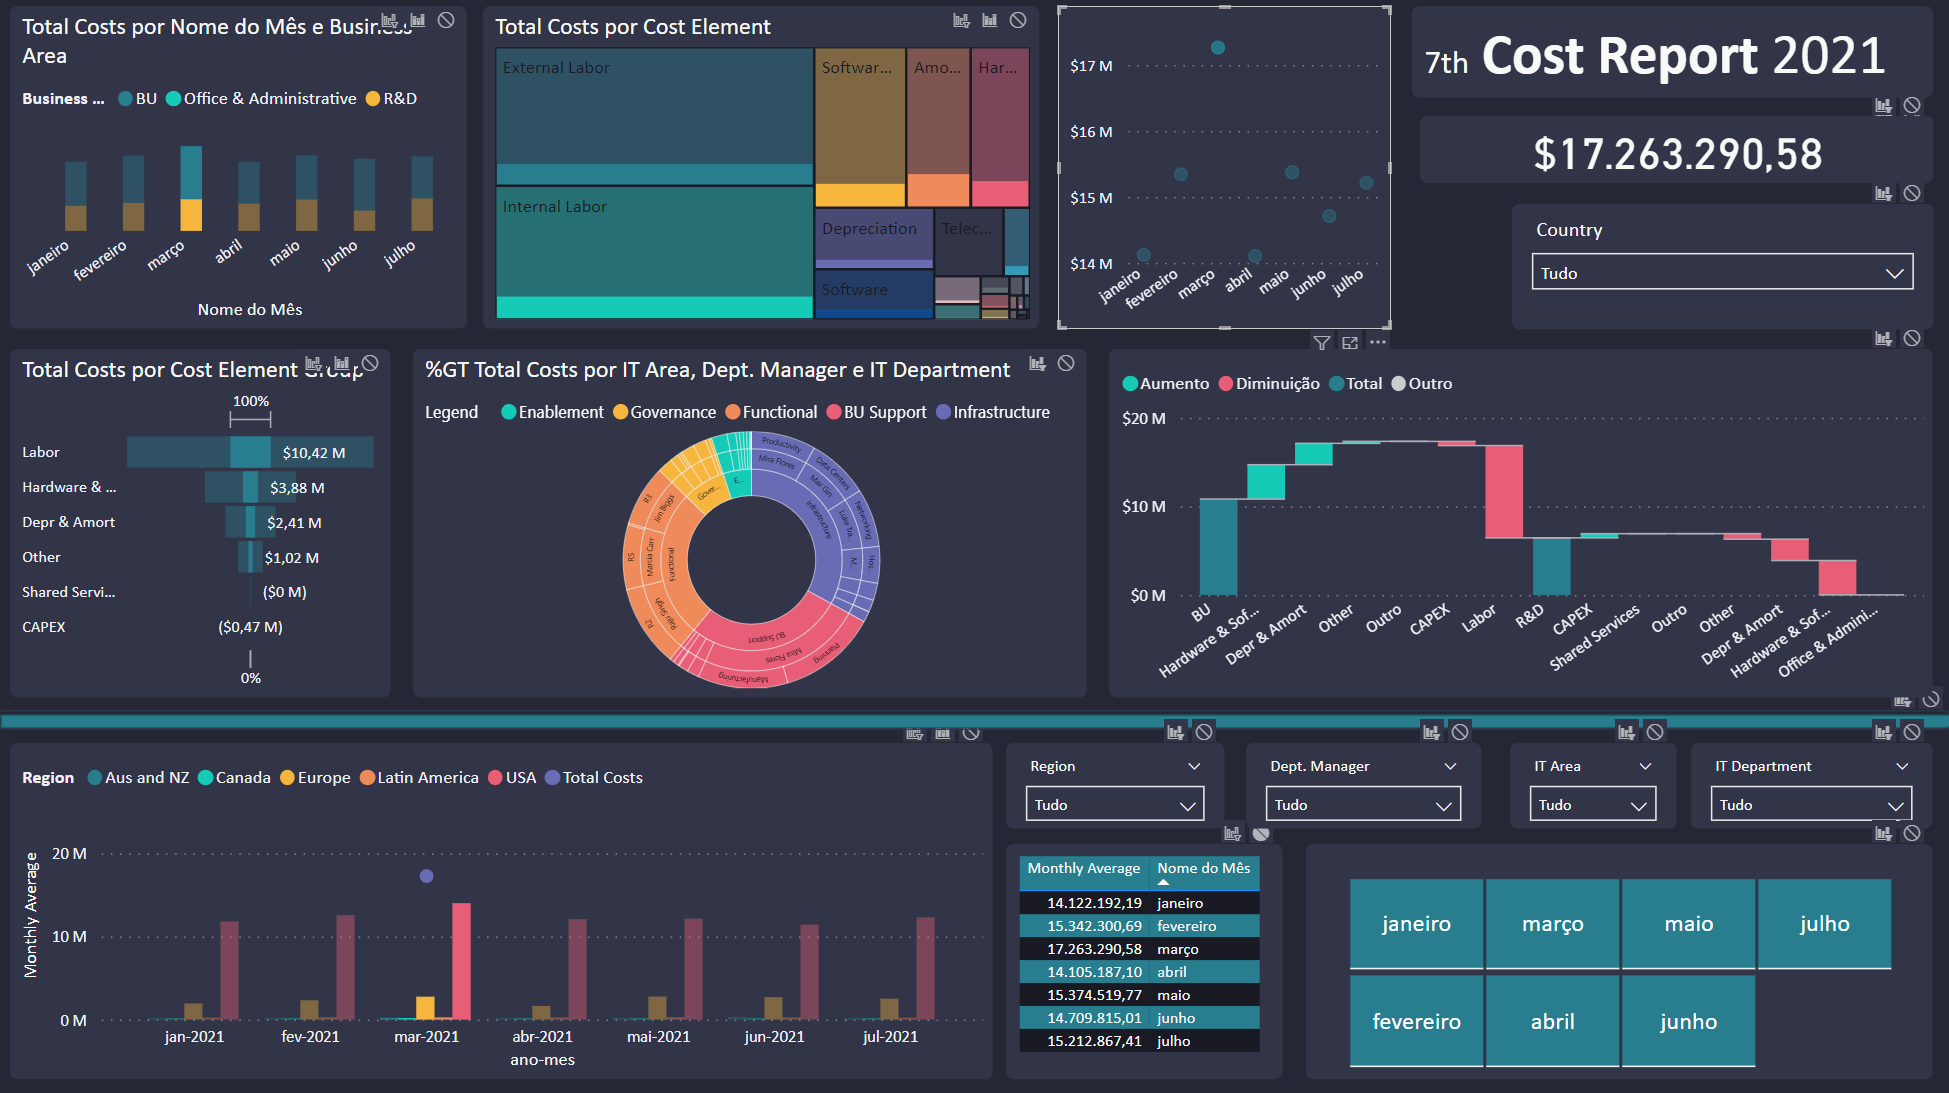

Layout of this report page (visuals, bound fields, positions):
{"tool":"powerbi","page":{"name":"Página 1","canvas":[1280,720],"ordinal":0},"visuals":[{"type":"lineClusteredColumnComboChart","fields":{"Y":["_med.Monthly Average"],"Category":["Calendar.Intercalado"],"Y2":["_med.Total Costs"],"Series":["Regions.Region"]},"box":[9.2,489.5,642.6,219.9],"z":0},{"type":"tableEx","fields":{"Values":["_med.Monthly Average","Calendar.Nome do Mês"]},"box":[660.9,555.6,180.6,153.8],"z":1000},{"type":"textbox","box":[926.6,7.2,340.9,60.2],"z":2000},{"type":"funnel","fields":{"Category":["CostElements.Cost Element Group"],"Y":["_med.Total Costs"]},"box":[9.2,231.7,249.3,227.7],"z":3000},{"type":"shape","box":[0,467.9,1280,13.1],"z":4000},{"type":"card","fields":{"Values":["_med.Total Costs"]},"box":[931.9,79.2,335.7,44.5],"z":5000},{"type":"Sunburst1445472000808","fields":{"Values":["_med.Total Costs"],"Nodes":["Departments.IT Area","Departments.Dept. Manager","Departments.IT Department"]},"box":[272.9,231.7,441.1,227.7],"z":6000},{"type":"slicer","fields":{"Values":["Departments.IT Department"]},"box":[1114.4,489.5,153.1,55.6],"z":7000},{"type":"slicer","fields":{"Values":["Departments.IT Area"]},"box":[988.8,489.5,108.6,55.6],"z":8000},{"type":"slicer","fields":{"Values":["Departments.Dept. Manager"]},"box":[820,489.5,153.8,55.6],"z":9000},{"type":"slicer","fields":{"Values":["Regions.Region"]},"box":[660.9,489.5,143.3,55.6],"z":10000},{"type":"slicer","fields":{"Values":["Calendar.Nome do Mês"]},"box":[857.3,555.6,410.3,153.8],"z":11000},{"type":"scatterChart","fields":{"Y":["_med.Total Costs"],"X":["Calendar.Nome do Mês"]},"box":[695,7.2,217.9,211.4],"z":12000},{"type":"treemap","fields":{"Values":["_med.Total Costs"],"Group":["CostElements.Cost Element"]},"box":[318.7,7.2,363.8,211.4],"z":13000},{"type":"ribbonChart","fields":{"Category":["Calendar.Nome do Mês"],"Y":["_med.Total Costs"],"Series":["CostElements.Business Area"]},"box":[9.2,7.2,299.1,211.4],"z":14000},{"type":"waterfallChart","fields":{"Y":["_med.Total Costs"],"Category":["CostElements.Business Area"],"Breakdown":["CostElements.Cost Element Group"]},"box":[728.3,231.7,539.2,227.7],"z":15000},{"type":"slicer","fields":{"Values":["Regions.Country"]},"box":[992.1,136.8,275.5,81.8],"z":16000}]}

Visuals, with their boxes in screenshot pixels (x1, y1, x2, y2), scaled from the page's 1280x720 canvas onto the 1949x1093 screenshot:
lineClusteredColumnComboChart - _med.Monthly Average x Calendar.Intercalado: <bbox>14, 743, 992, 1077</bbox>
tableEx - _med.Monthly Average x Calendar.Nome do Mês: <bbox>1006, 843, 1281, 1077</bbox>
textbox: <bbox>1411, 11, 1930, 102</bbox>
funnel - CostElements.Cost Element Group x _med.Total Costs: <bbox>14, 352, 394, 697</bbox>
shape: <bbox>0, 710, 1948, 730</bbox>
card - _med.Total Costs: <bbox>1419, 120, 1930, 188</bbox>
Sunburst1445472000808 - _med.Total Costs x Departments.IT Area: <bbox>416, 352, 1087, 697</bbox>
slicer - Departments.IT Department: <bbox>1697, 743, 1930, 827</bbox>
slicer - Departments.IT Area: <bbox>1506, 743, 1671, 827</bbox>
slicer - Departments.Dept. Manager: <bbox>1249, 743, 1483, 827</bbox>
slicer - Regions.Region: <bbox>1006, 743, 1225, 827</bbox>
slicer - Calendar.Nome do Mês: <bbox>1305, 843, 1930, 1077</bbox>
scatterChart - _med.Total Costs x Calendar.Nome do Mês: <bbox>1058, 11, 1390, 332</bbox>
treemap - _med.Total Costs x CostElements.Cost Element: <bbox>485, 11, 1039, 332</bbox>
ribbonChart - Calendar.Nome do Mês x _med.Total Costs: <bbox>14, 11, 469, 332</bbox>
waterfallChart - _med.Total Costs x CostElements.Business Area: <bbox>1109, 352, 1930, 697</bbox>
slicer - Regions.Country: <bbox>1511, 208, 1930, 332</bbox>
